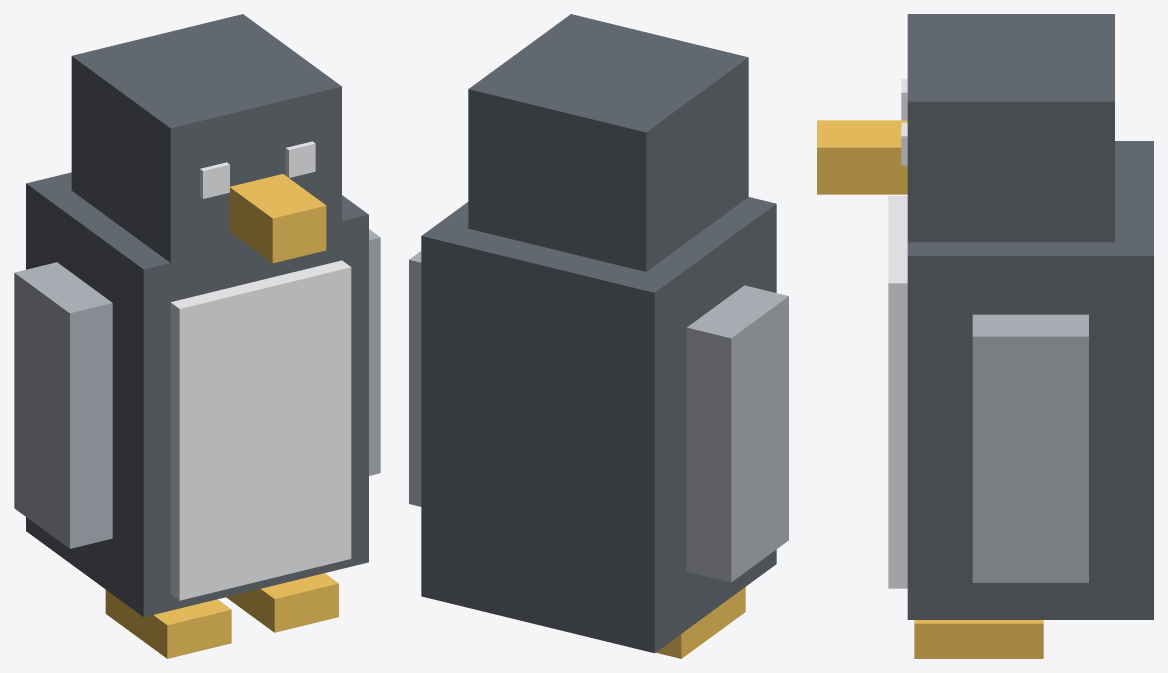
Rendered from animal-penguin.glb.
3 views of the same model, side by side, from view 1: azimuth 30°, elevation 25°; view 2: azimuth 150°, elevation 25°; view 3: azimuth 270°, elevation 25° (orthographic). The views are drawn at different scales.
Visible parts, largest first — view 1: animal-penguin; view 2: animal-penguin; view 3: animal-penguin.
Part boxes in pixels (left/top/right/bottom): animal-penguin: left=14, top=14, right=380, bottom=658; animal-penguin: left=409, top=14, right=788, bottom=658; animal-penguin: left=817, top=14, right=1153, bottom=658.
Bounding box in the file's own units: 0.58 × 0.95 × 0.52.
